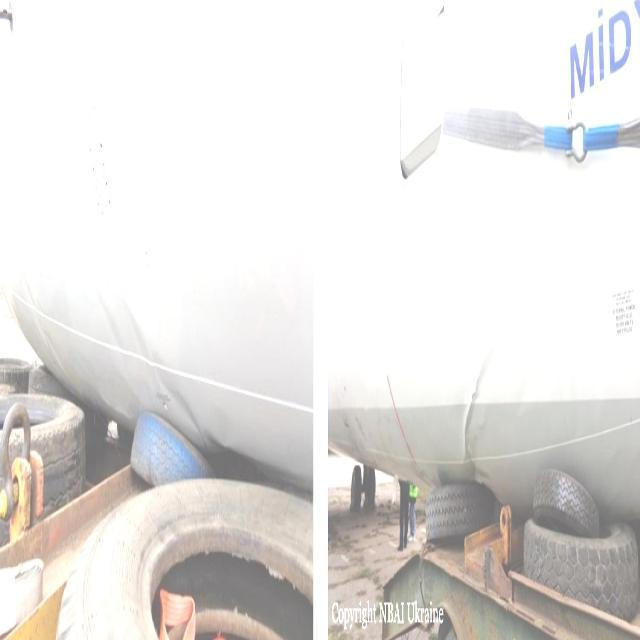dent: (101, 294, 222, 461), (441, 347, 513, 496)
